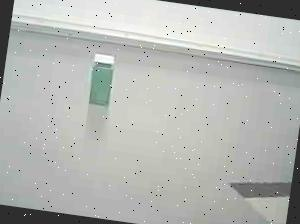Bottle C: (82, 46, 123, 114)
